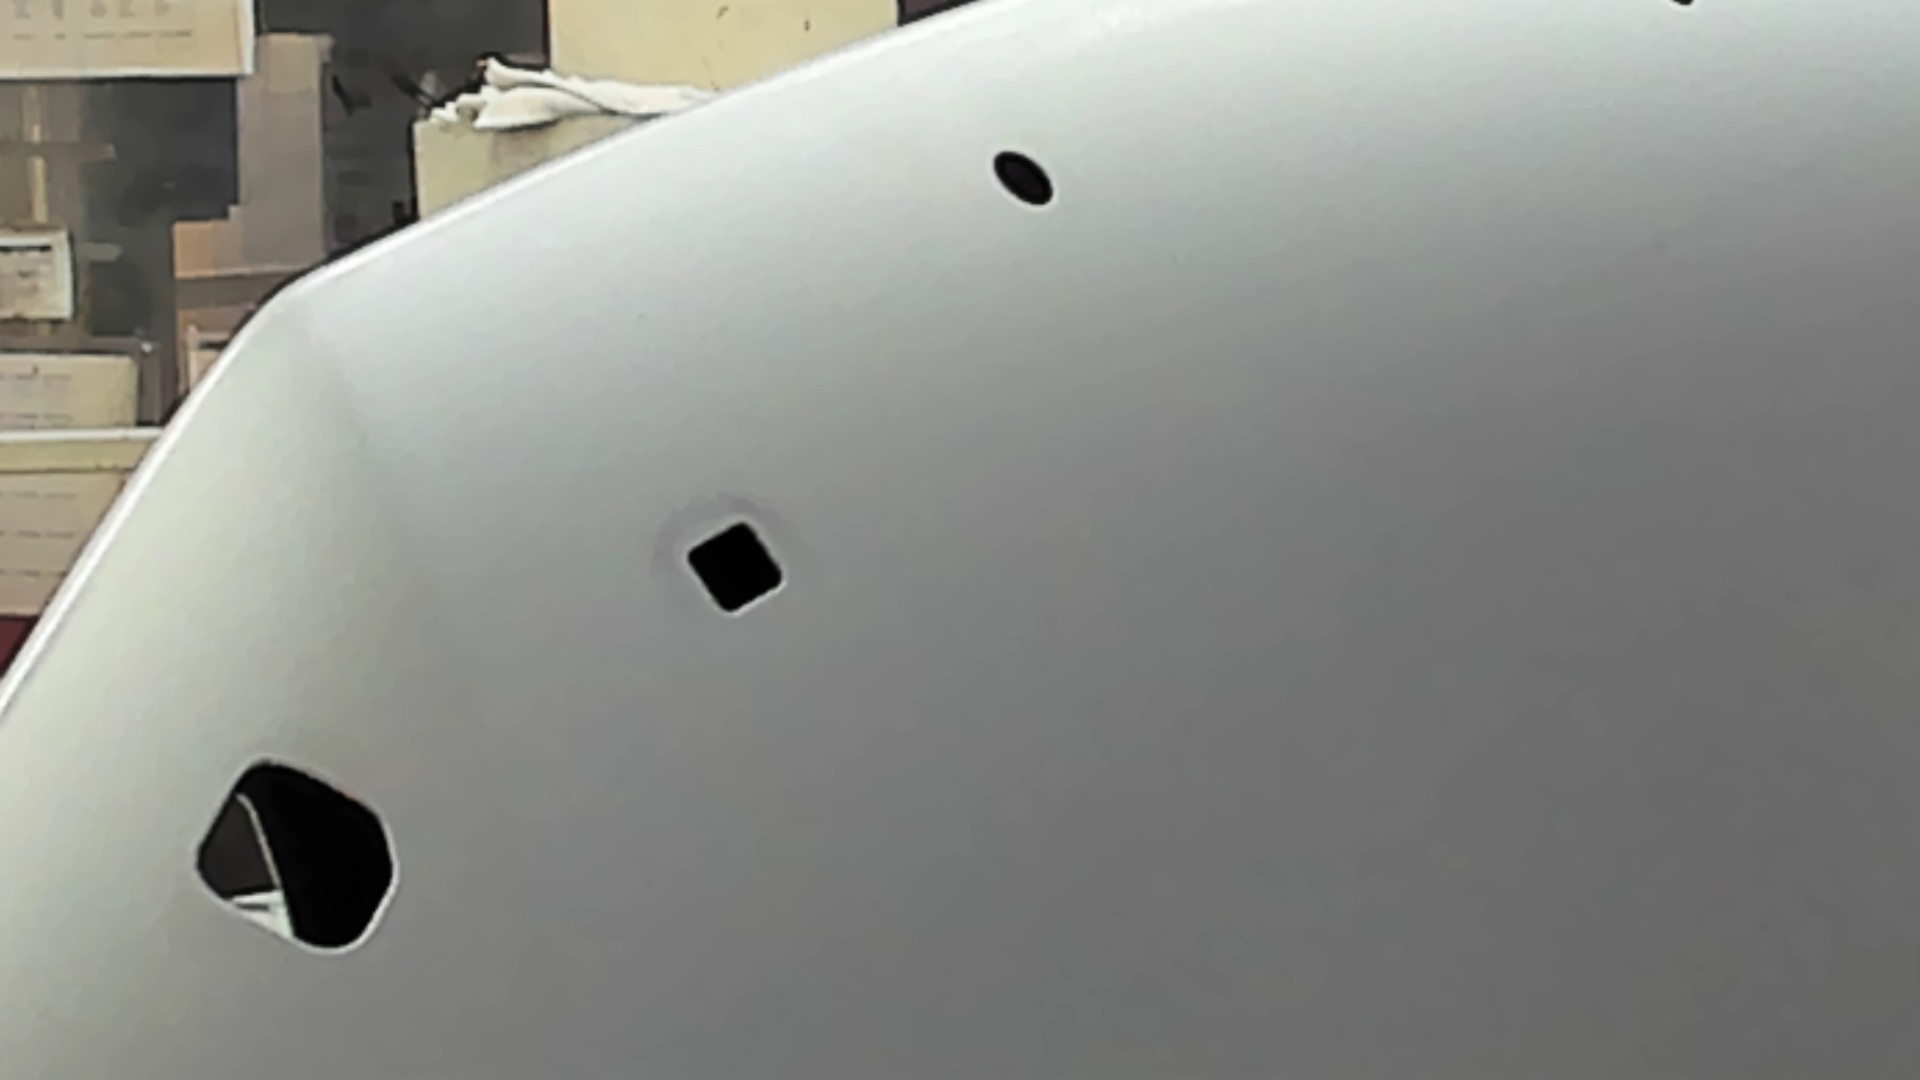chico: (988, 144, 1059, 211)
grande: (193, 756, 405, 960)
mediano: (683, 516, 789, 622)
